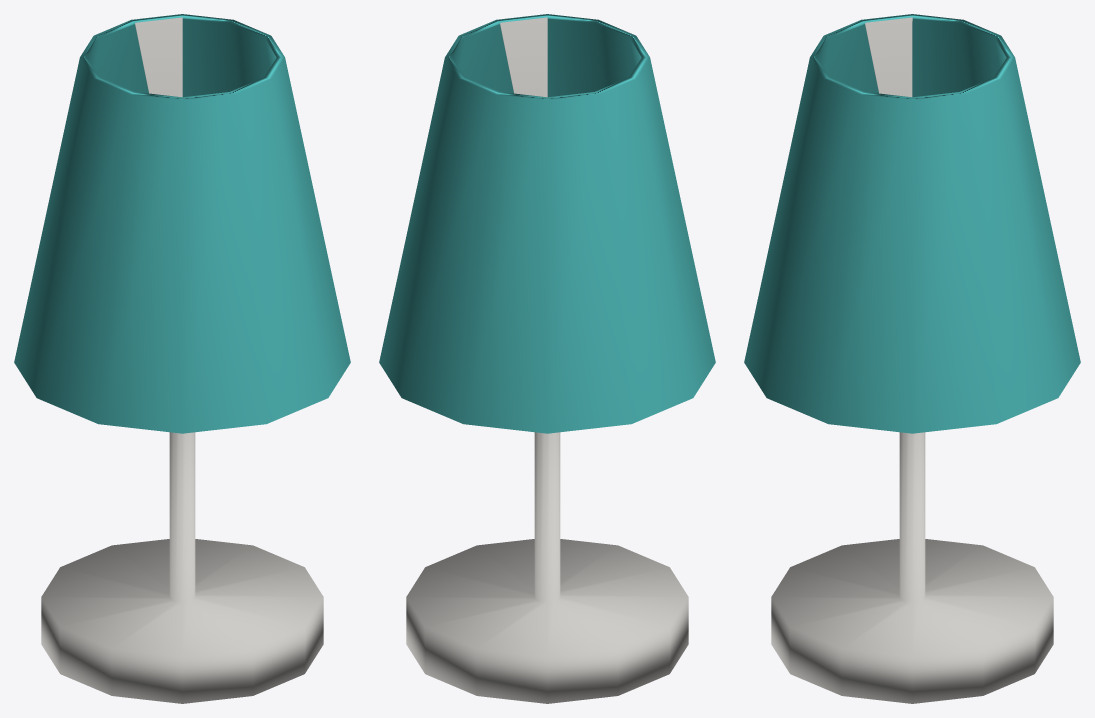
File: lamp_Bedroom_v01.fbx
The picture shows the model from 3 angles, left to right: view 1: azimuth 30°, elevation 25°; view 2: azimuth 150°, elevation 25°; view 3: azimuth 270°, elevation 25°; orthographic projection.
Parts seen in each view (by area): view 1: Lamp; view 2: Lamp; view 3: Lamp.
Part boxes in pixels (x1,y1,x2,y2): Lamp: (14, 14, 350, 703); Lamp: (379, 14, 715, 703); Lamp: (744, 14, 1080, 703).
Size of the model in its own units: 13 by 25 by 13.
